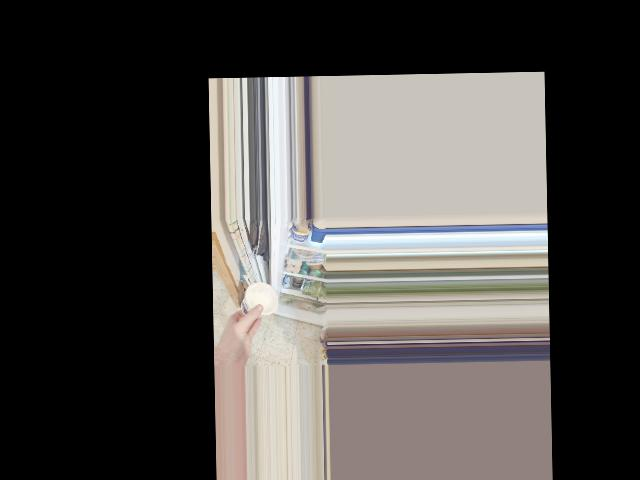cotage: (237, 279, 279, 319)
